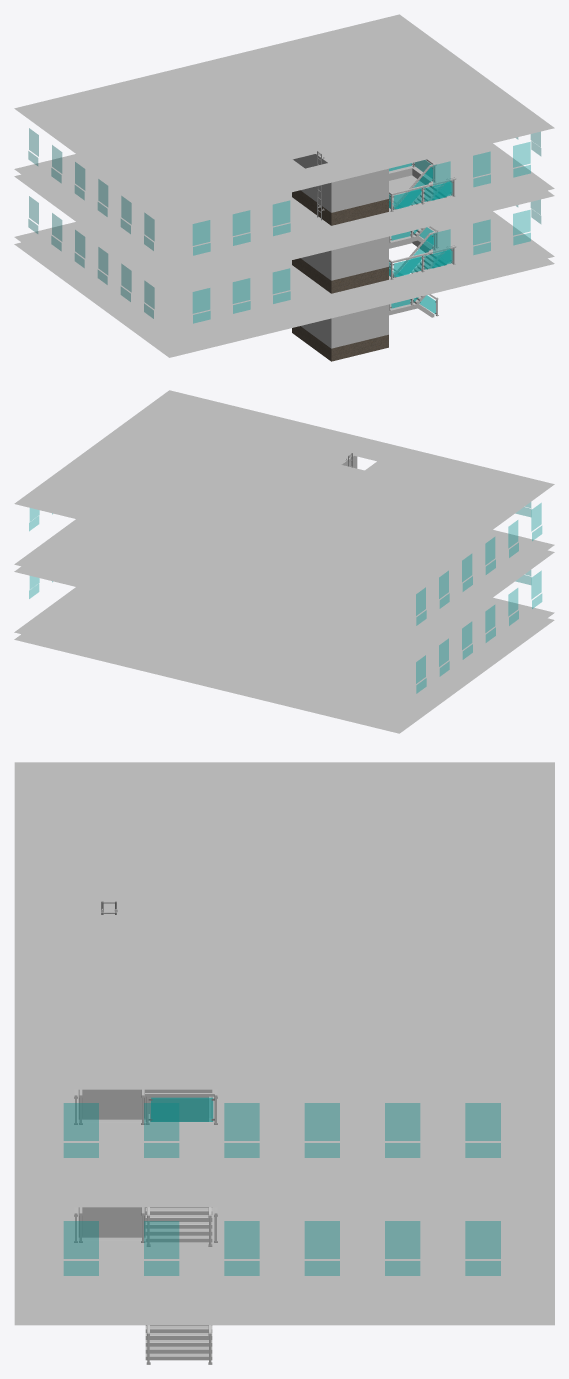
File: Building06_V2_Interior02.fbx
3 renders of one model, top to bottom at view 1: azimuth 30°, elevation 25°; view 2: azimuth 150°, elevation 25°; view 3: azimuth 270°, elevation 25°, orthographic. The views are drawn at different scales.
Parts seen in each view (by area): view 1: Building06_V2_Interior02; view 2: Building06_V2_Interior02; view 3: Building06_V2_Interior02.
Part boxes in pixels (box(x1,y1,x2,y2)): Building06_V2_Interior02: box(14, 14, 554, 361); Building06_V2_Interior02: box(14, 390, 554, 733); Building06_V2_Interior02: box(14, 762, 554, 1364).
Bounding box in the file's own units: 2420 × 1211 × 1683.
